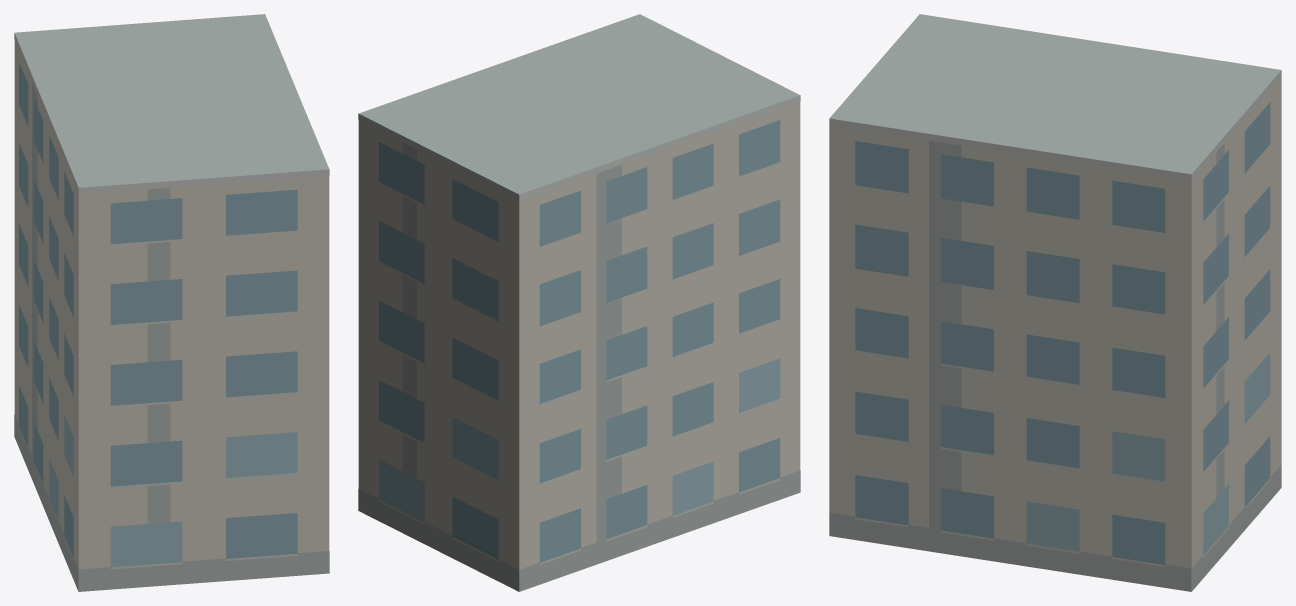
File: residential-5c97dc22-3064-4da0-a7e9-d57fed29b158.glb
3 views of the same model, side by side, from view 1: azimuth 30°, elevation 25°; view 2: azimuth 150°, elevation 25°; view 3: azimuth 270°, elevation 25° (orthographic). The views are drawn at different scales.
Visible parts, largest first — view 1: residential-5c97dc22-3064-4da0-a7e9-d57fed29b158.tmp; view 2: residential-5c97dc22-3064-4da0-a7e9-d57fed29b158.tmp; view 3: residential-5c97dc22-3064-4da0-a7e9-d57fed29b158.tmp.
Boxes of the visible parts, x1=… form: residential-5c97dc22-3064-4da0-a7e9-d57fed29b158.tmp: x1=14, y1=14, x2=329, y2=591; residential-5c97dc22-3064-4da0-a7e9-d57fed29b158.tmp: x1=358, y1=14, x2=800, y2=591; residential-5c97dc22-3064-4da0-a7e9-d57fed29b158.tmp: x1=829, y1=14, x2=1281, y2=591.
Size of the model in its own units: 12.57 by 15.25 by 14.98.
